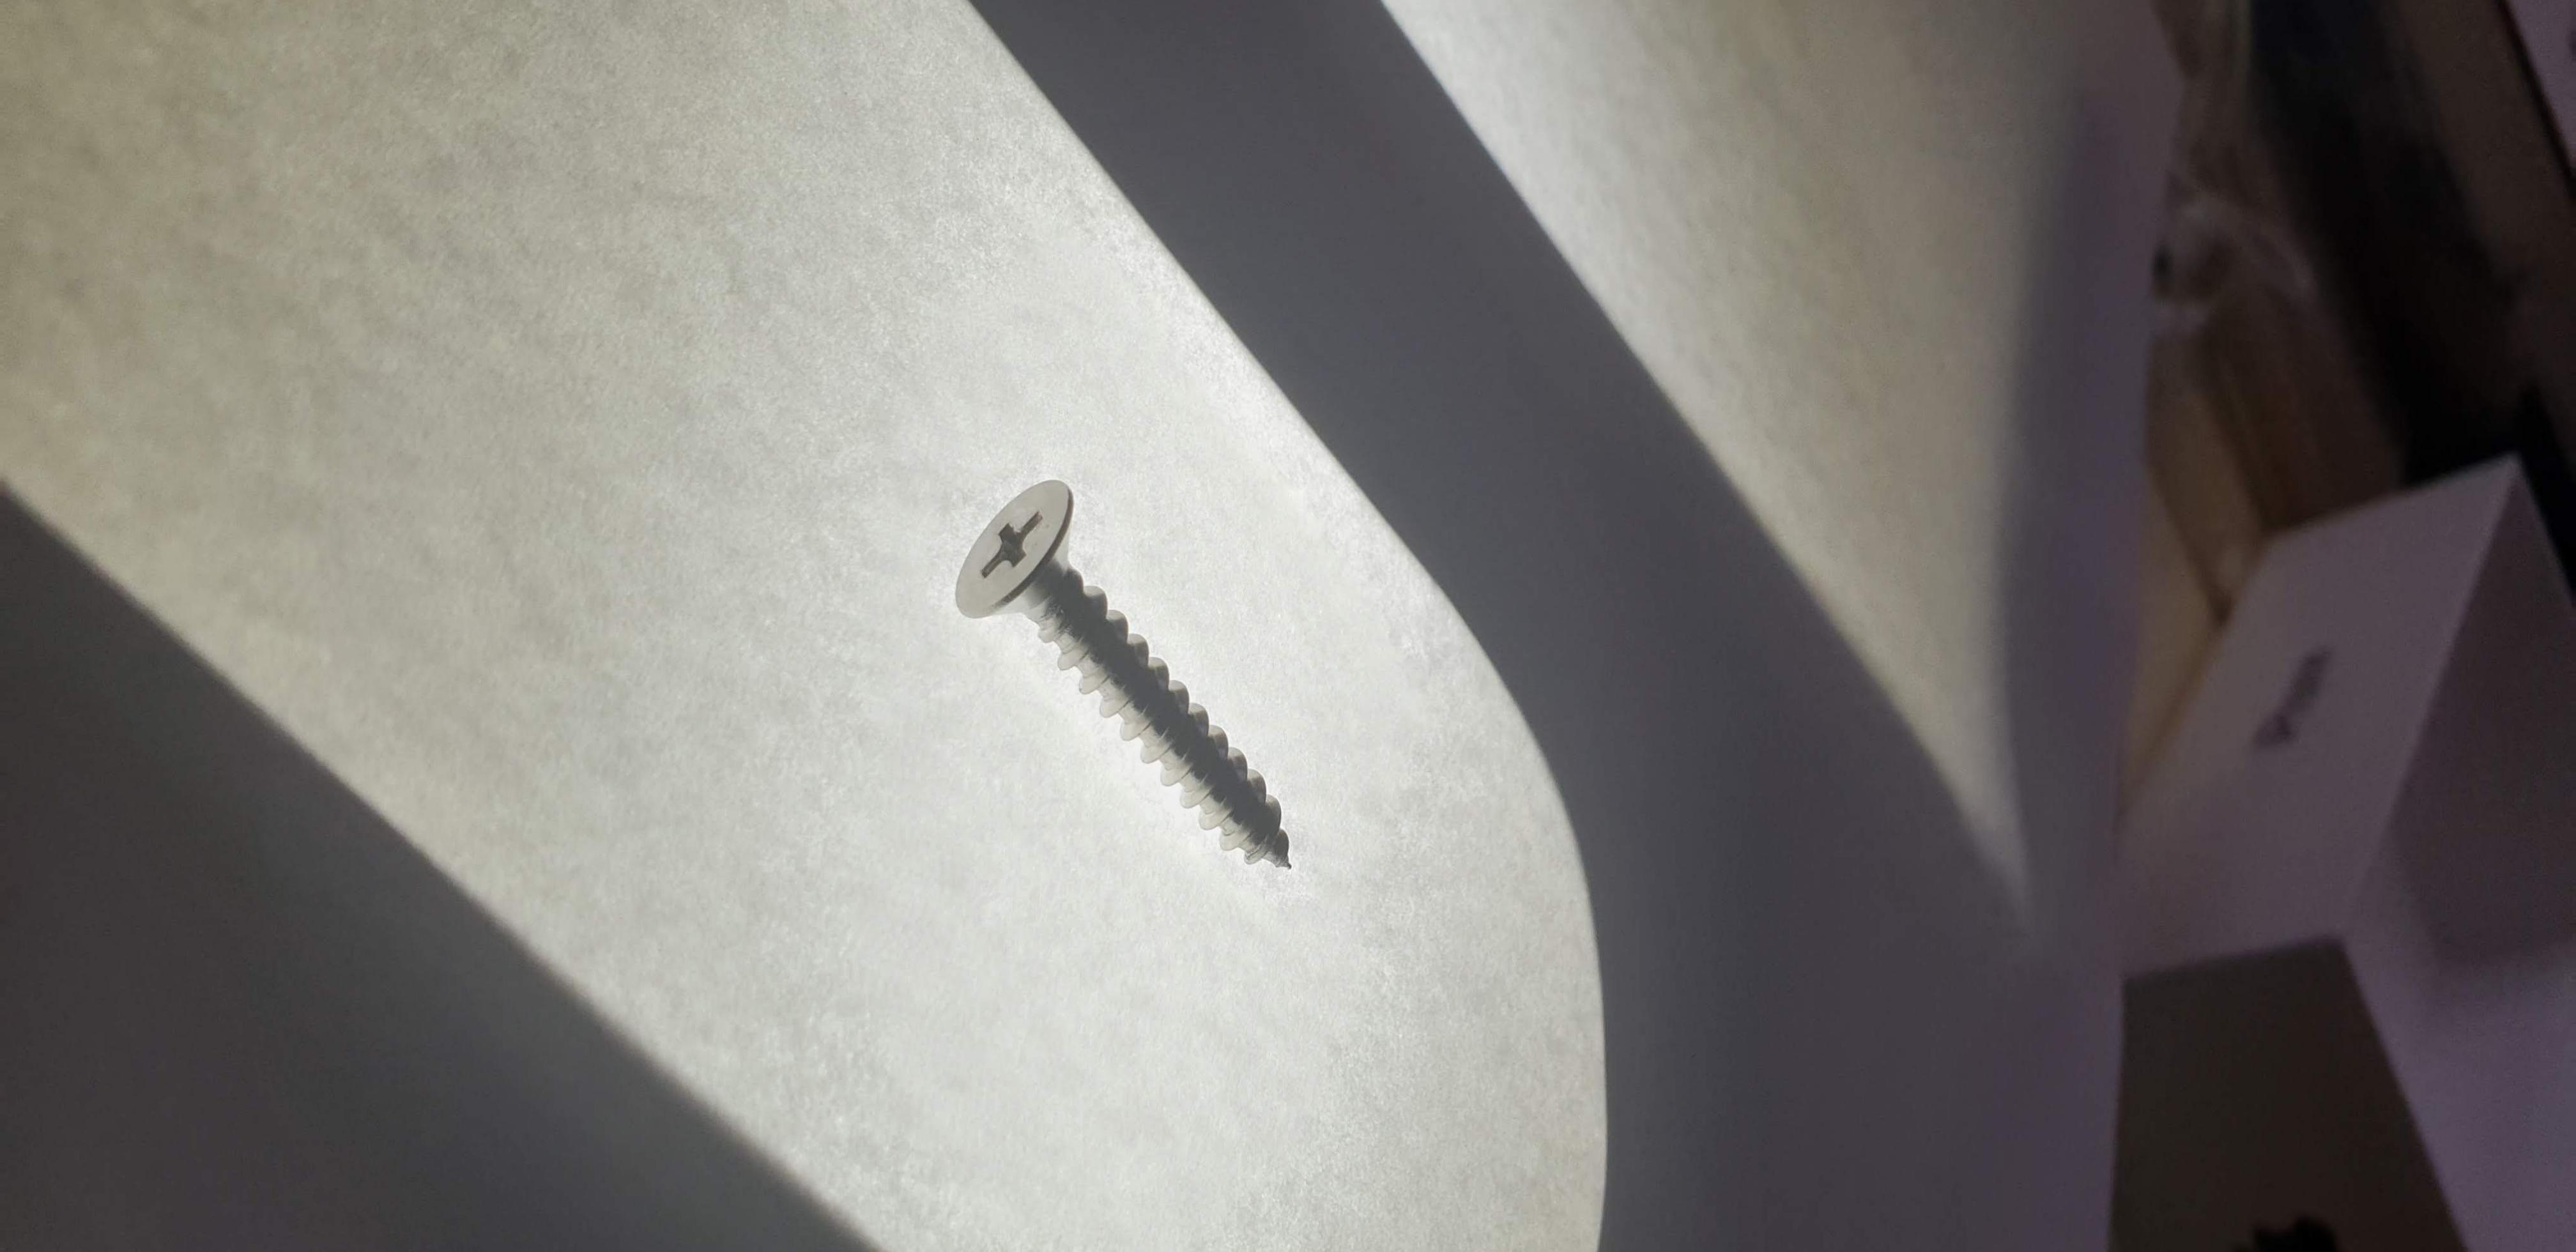S004: (894, 434, 1364, 941)
